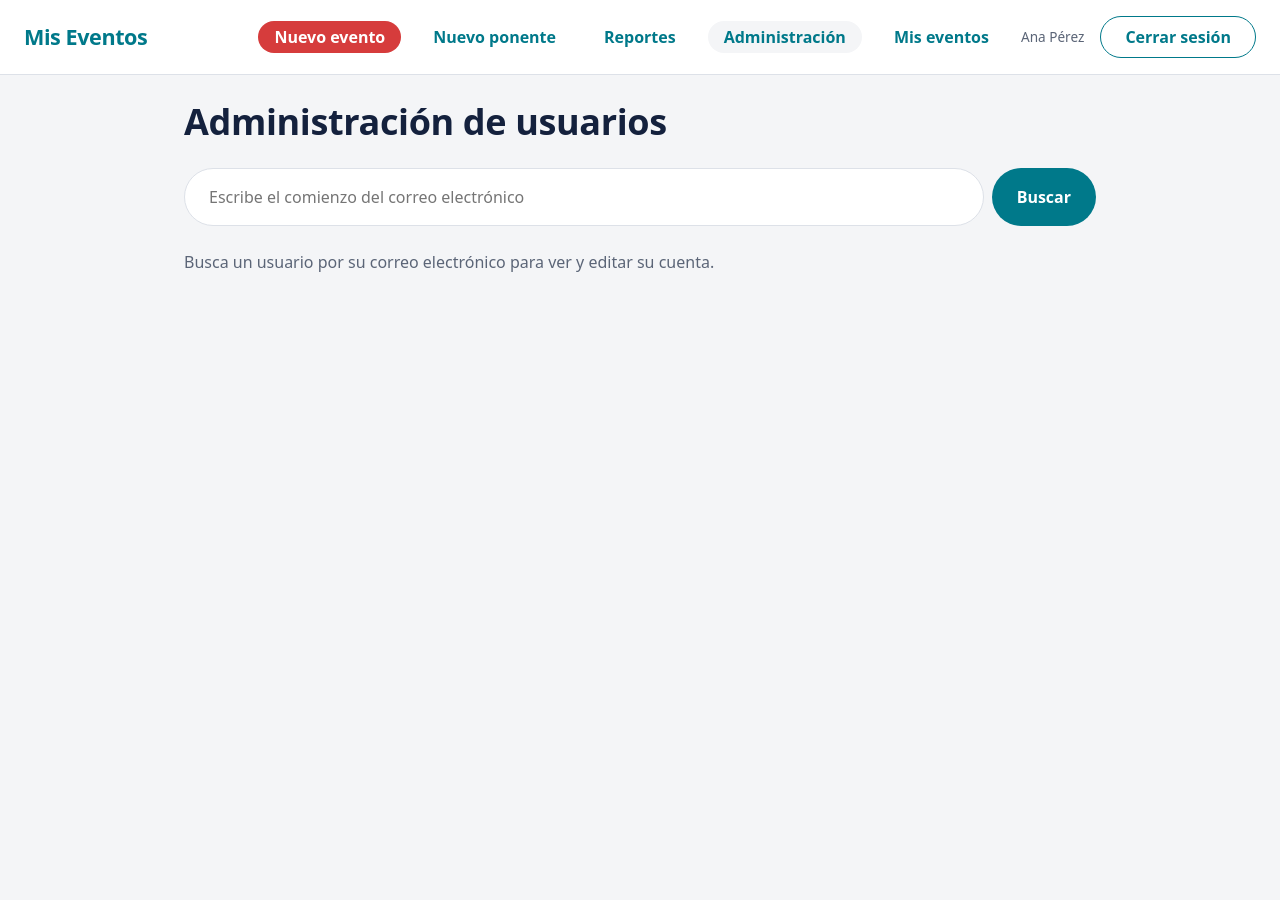
Test: AdminUsersPage search › shows name, email, role and state of every match
Step 1. Type "b" into the search field named "Correo electrónico del usuario" → (584, 197), box [184,168,984,226]
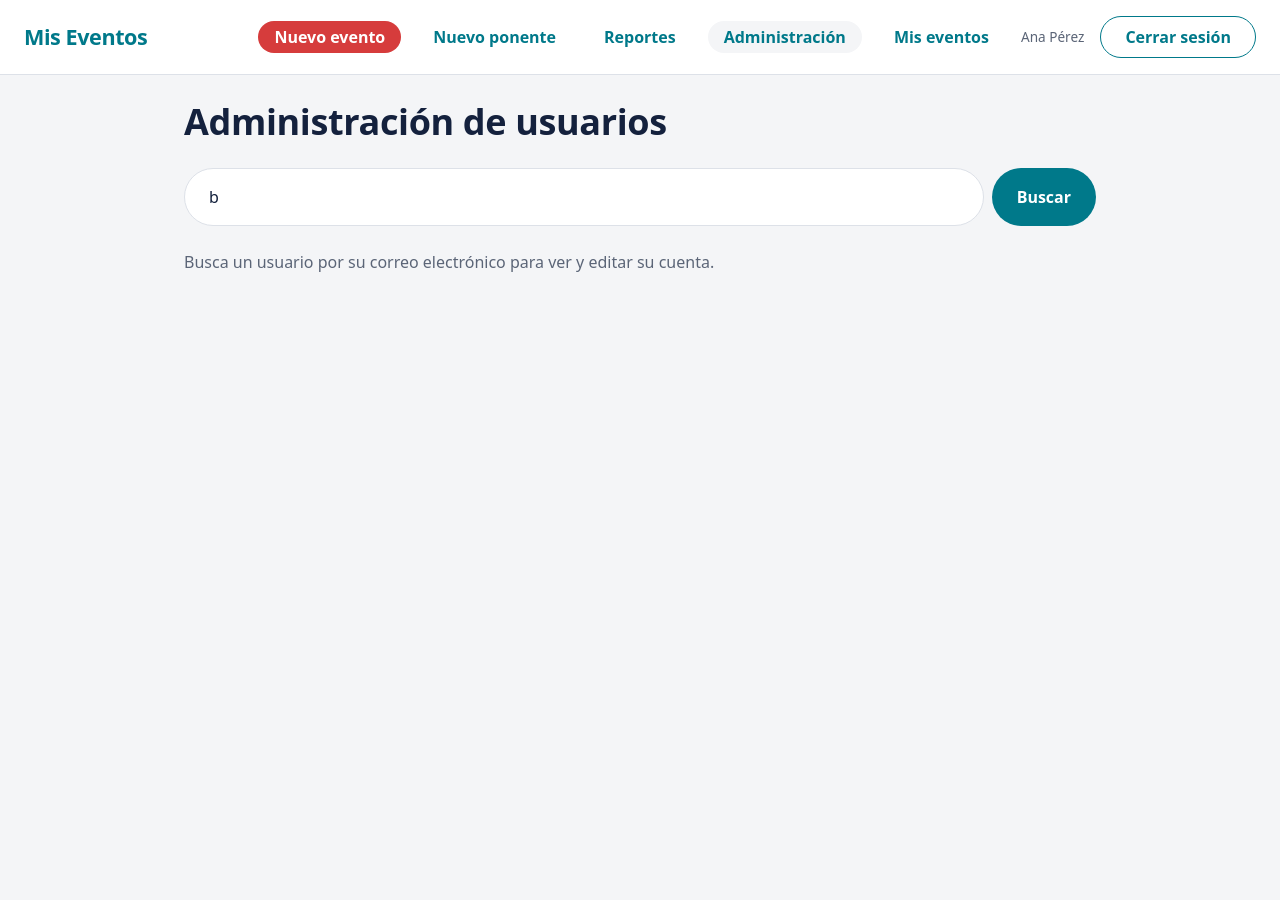
Step 2. Click the button "Buscar" → (1044, 197), box [992,168,1096,226]
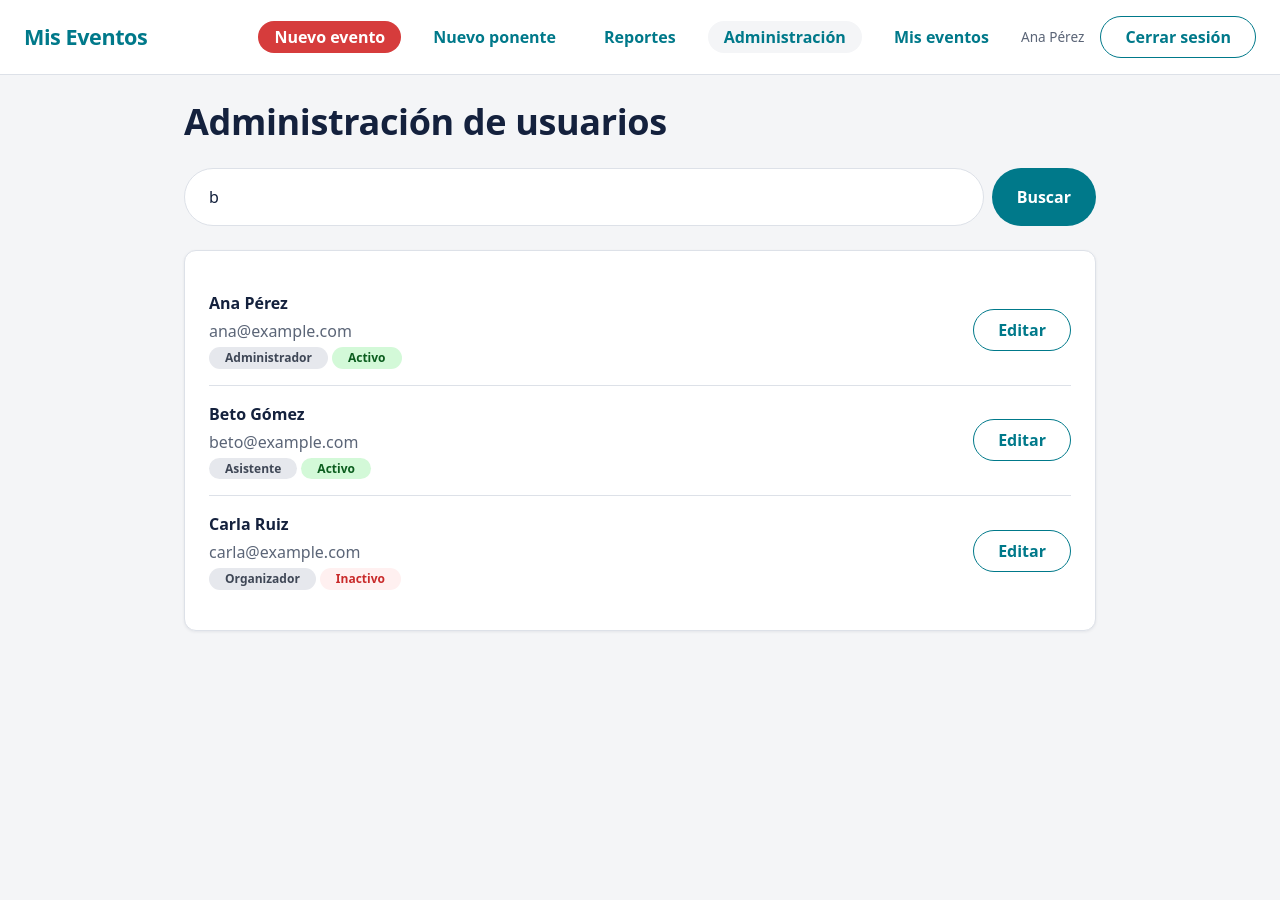
Expected: the text "beto@example.com" is shown, [209,430,371,454]
Expected: the text "Asistente" is shown, [209,458,297,479]
Expected: the text "Activo" next to "Asistente" is shown, [317,460,355,477]
